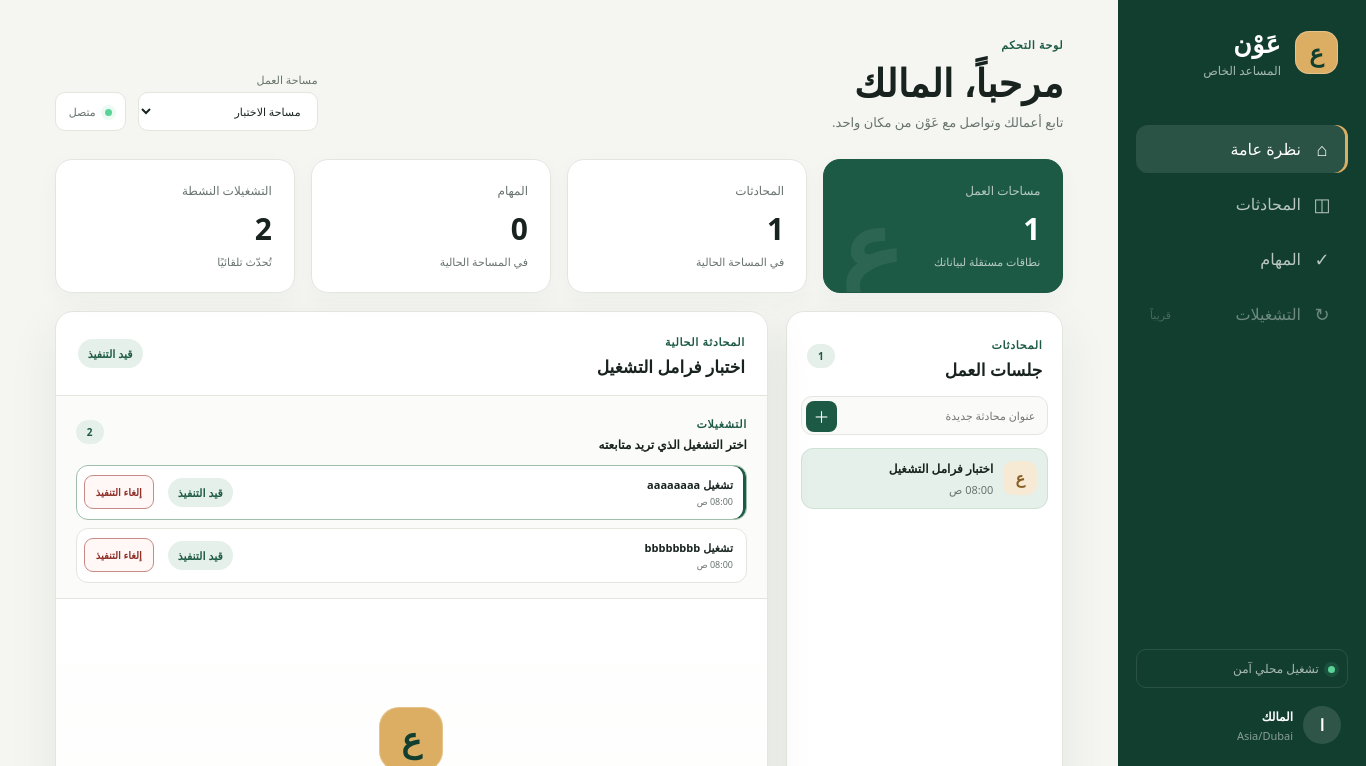
FC-002 cancellation dashboard › selects and focuses the recovered cancellation after a lost POST response
Click the 2nd button "إلغاء التنفيذ" at (119, 555), box [84, 538, 154, 572]
(page scrolled)
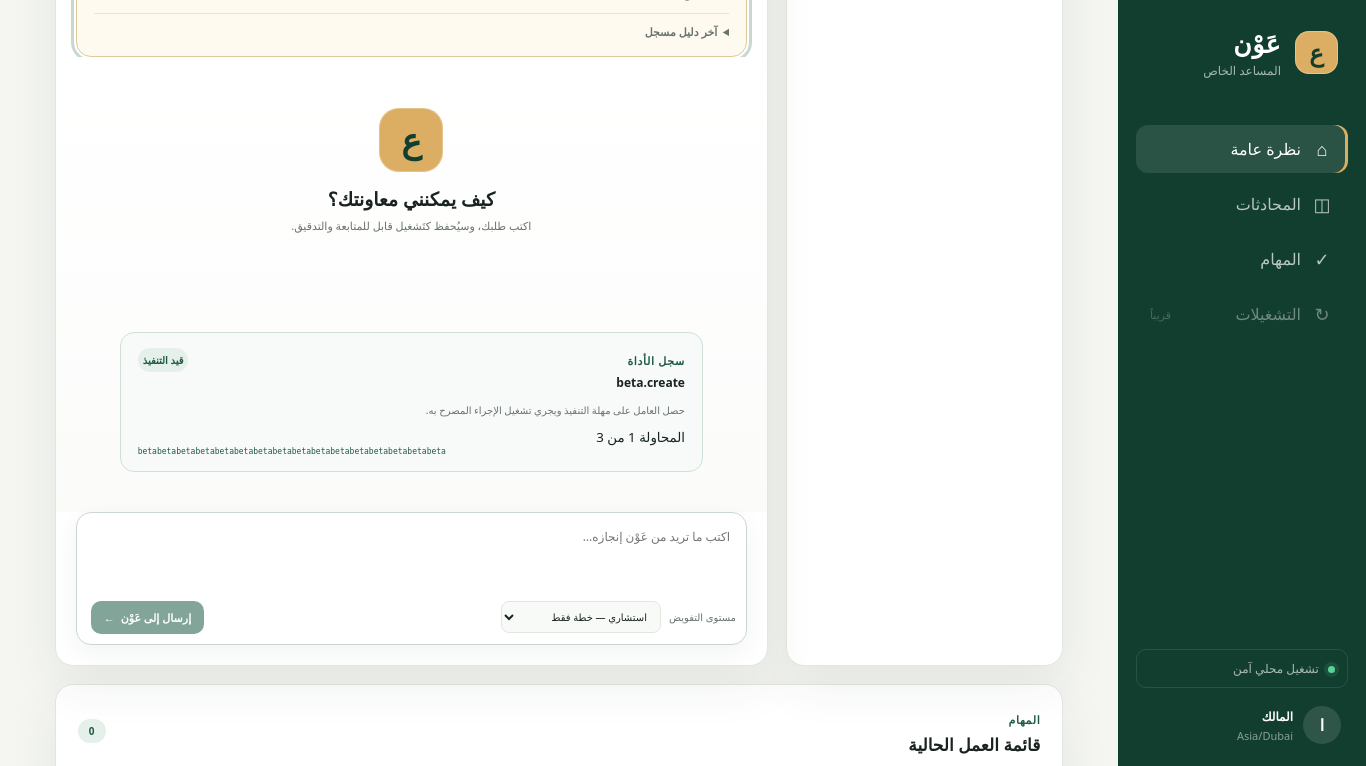
Check: the heading "beta.create" is shown, box [616, 374, 685, 391]
